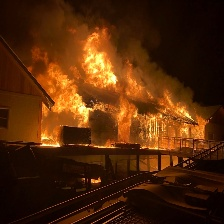fire: (36, 45, 201, 152)
smoke: (5, 6, 92, 58)
